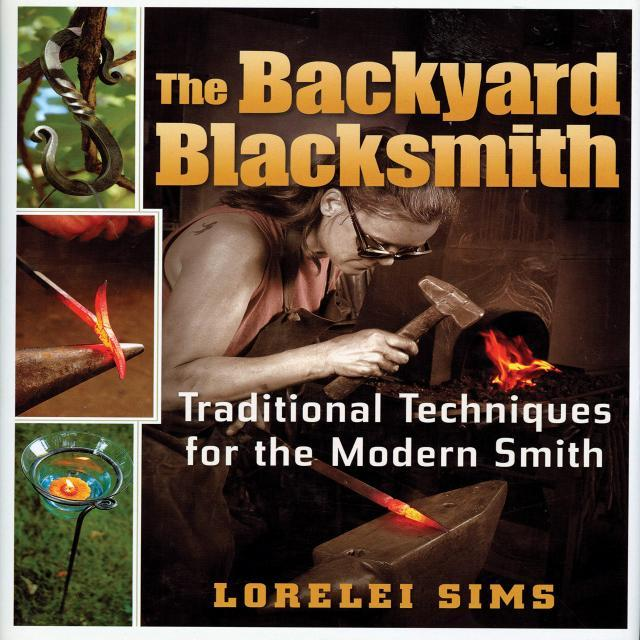hammer: (316, 269, 492, 411)
